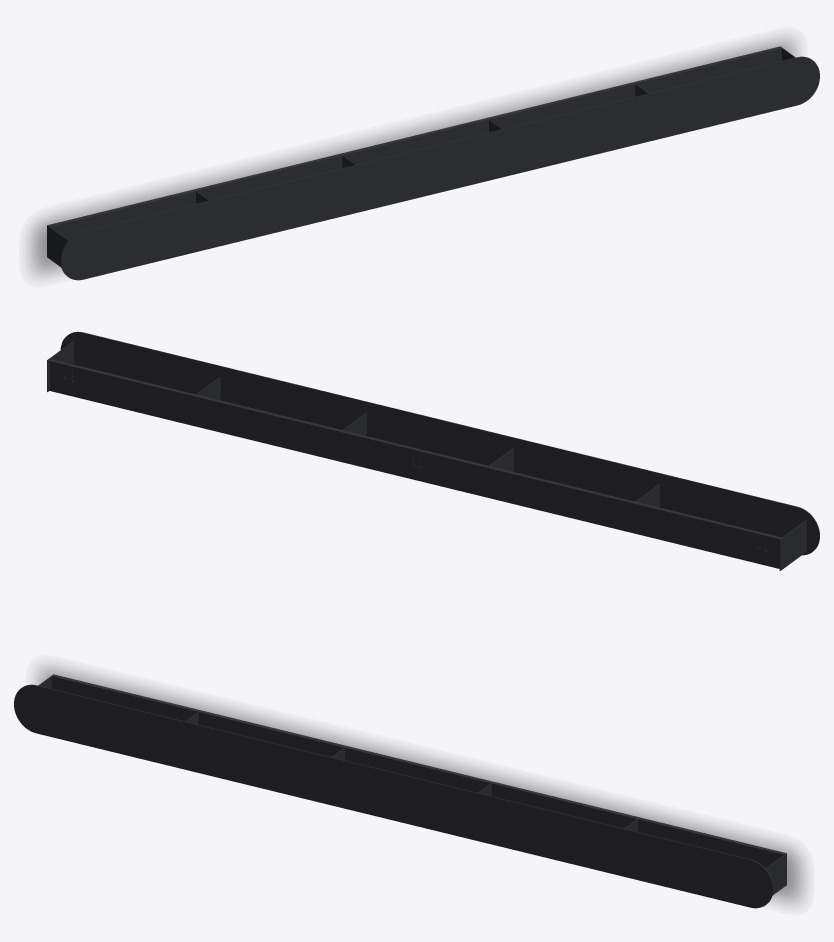
The model's file is round-mono.d58e08dd02.ar.glb.
The picture shows the model from 3 angles, top to bottom: view 1: azimuth 30°, elevation 25°; view 2: azimuth 150°, elevation 25°; view 3: azimuth 330°, elevation 25°; orthographic projection.
Parts seen in each view (by area): view 1: NAUO1, object 2; view 2: NAUO1; view 3: NAUO1, object 2.
Part boxes in pixels (x1,y1,x2,y2): NAUO1: (47, 46, 819, 280); object 2: (29, 38, 798, 275); NAUO1: (47, 331, 819, 570); NAUO1: (14, 674, 786, 908); object 2: (35, 666, 804, 903).
Size of the model in its own units: 1.58 by 0.17 by 0.093.
2 materials, 1 textured.
